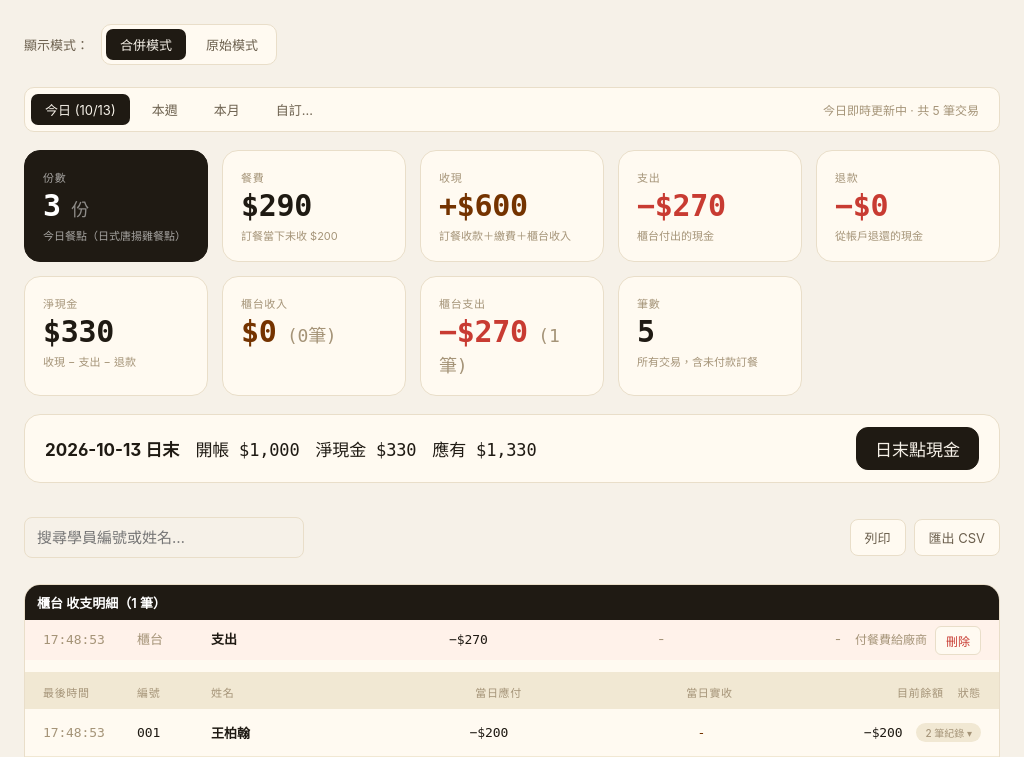
F2 日末點現金（D03／D04） › D03：搜尋某人、切到本週後，日結仍算全日；差 −10 沒寫原因不能關
Type "003" into the field labelled "搜尋學員編號或姓名".
click(164, 538); type("003")  # box [24, 517, 304, 558]
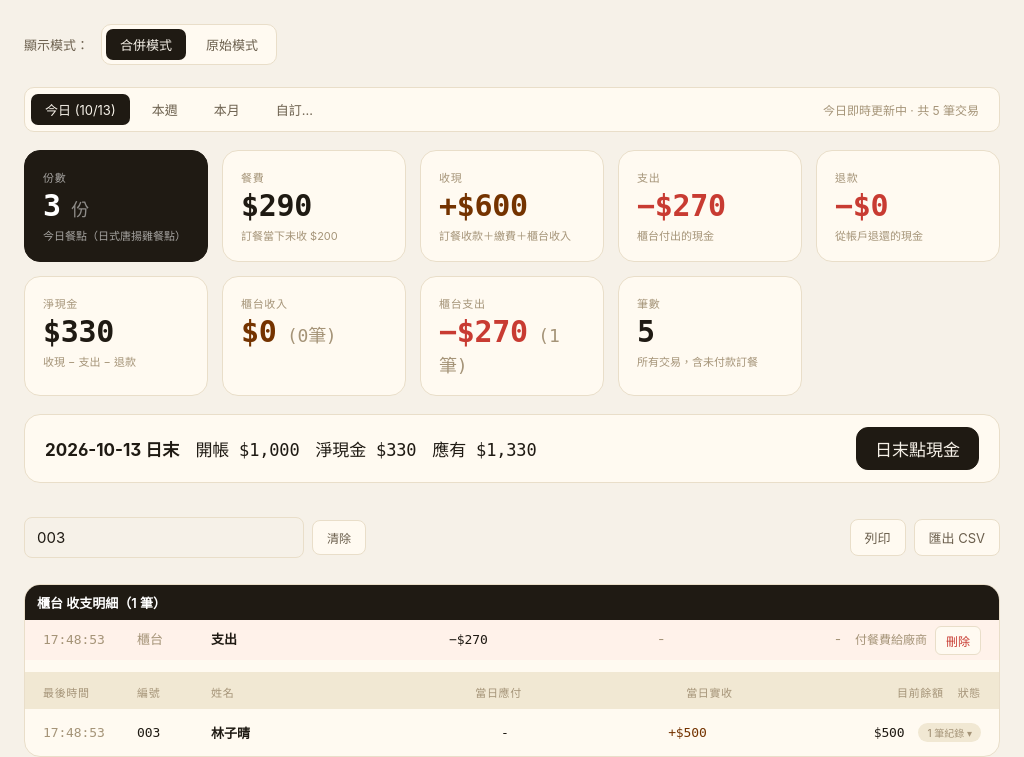
Click the button "本週".
click(165, 110)  # box [138, 94, 192, 125]
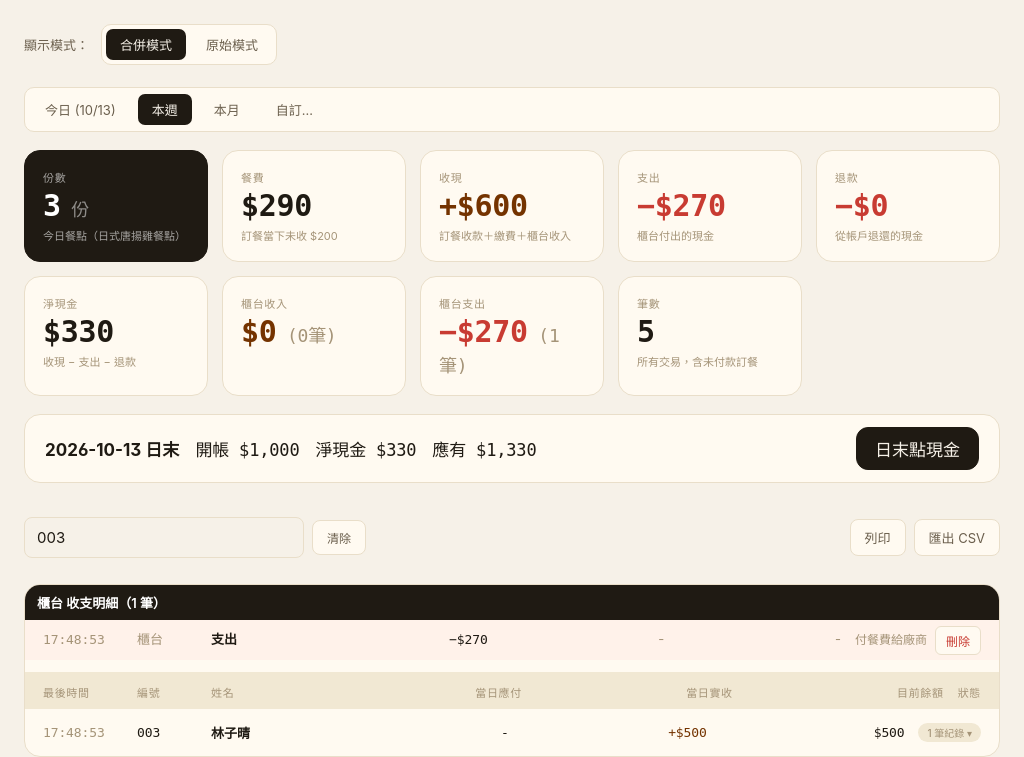
Expected: the element named "日末結帳" shows "應有 $1,330", [24, 414, 1000, 483]
Click the button "日末點現金".
click(918, 448)  # box [856, 427, 979, 470]
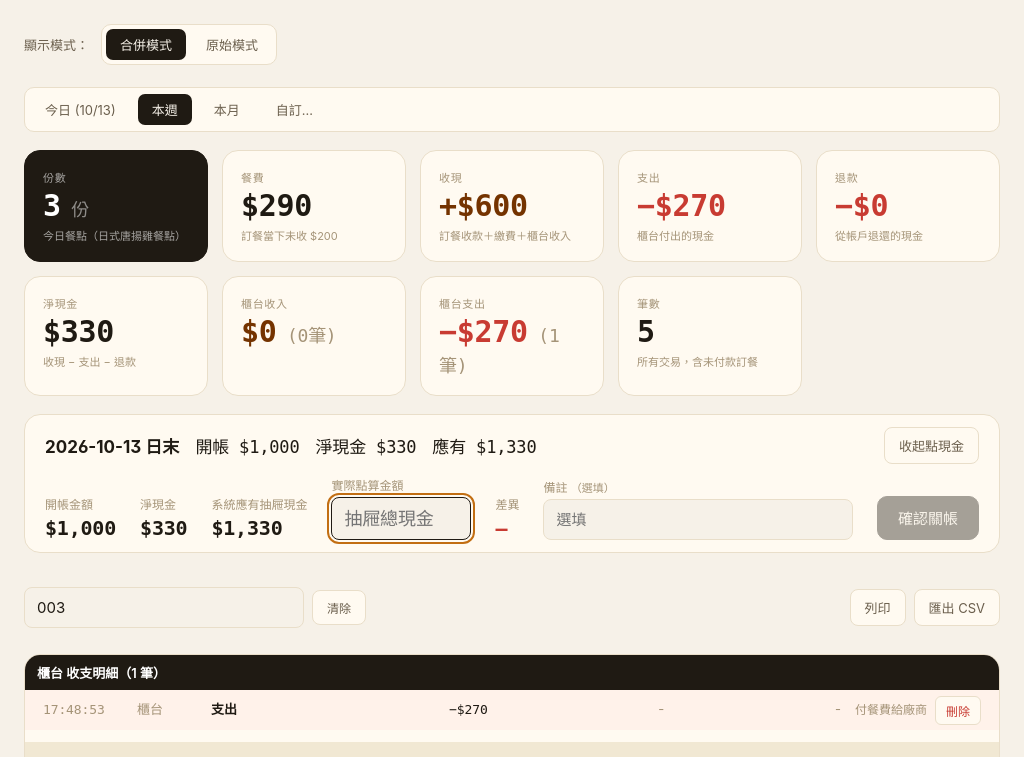
Type "1320" into the field labelled "實際點算金額".
click(401, 518); type("1320")  # box [331, 497, 471, 540]
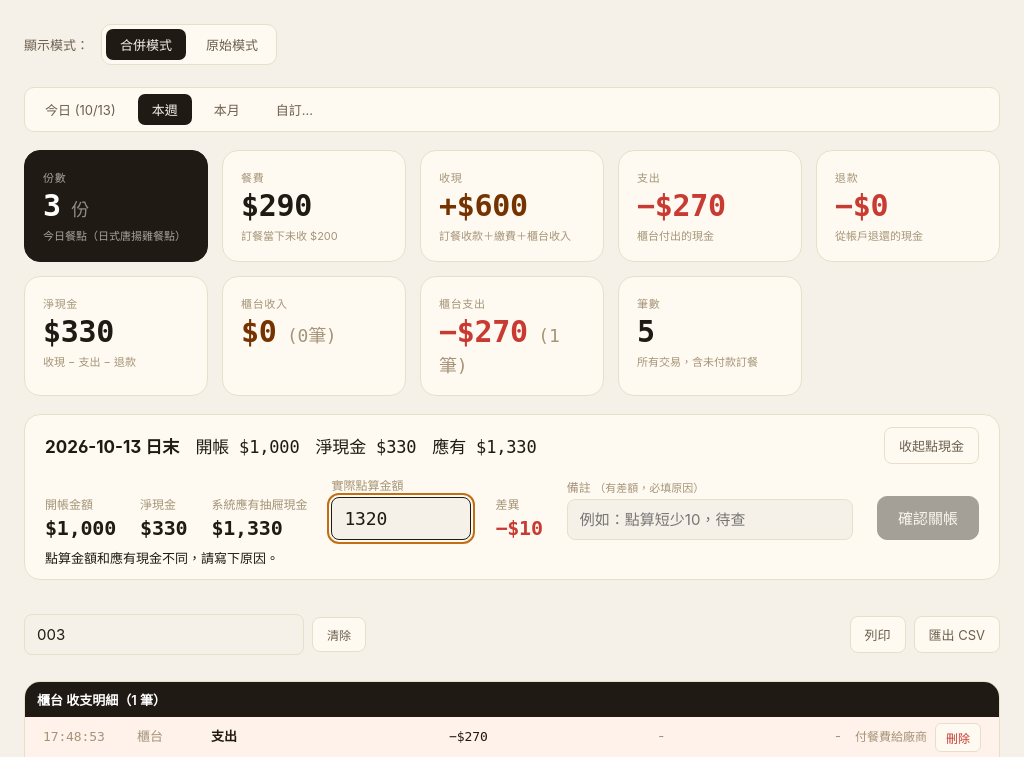
Expected: the button "確認關帳" is disabled, [877, 496, 979, 540]
Expected: the text "−$10" is shown, [495, 516, 543, 540]
